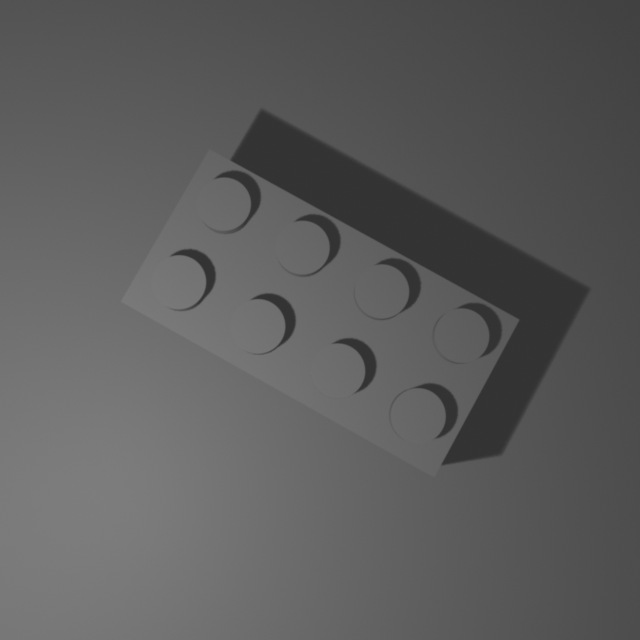lego_2x4: (117, 144, 524, 479)
